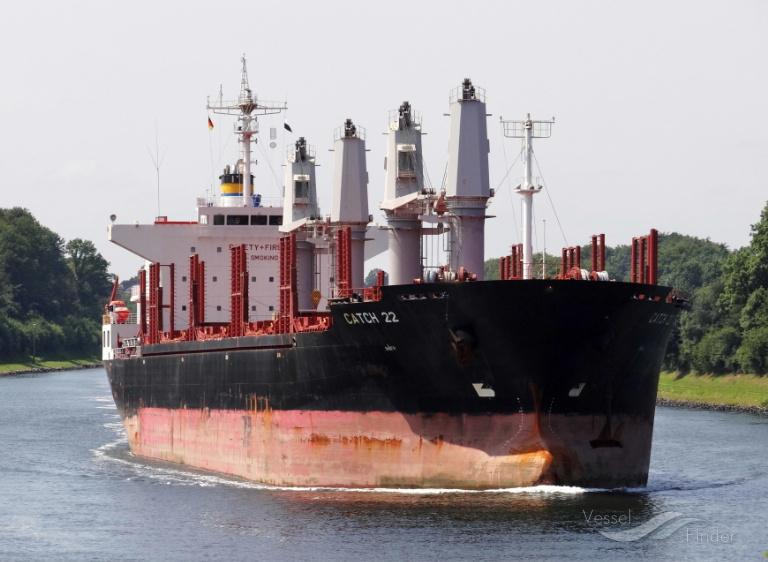OCR: (340, 306, 402, 329)
